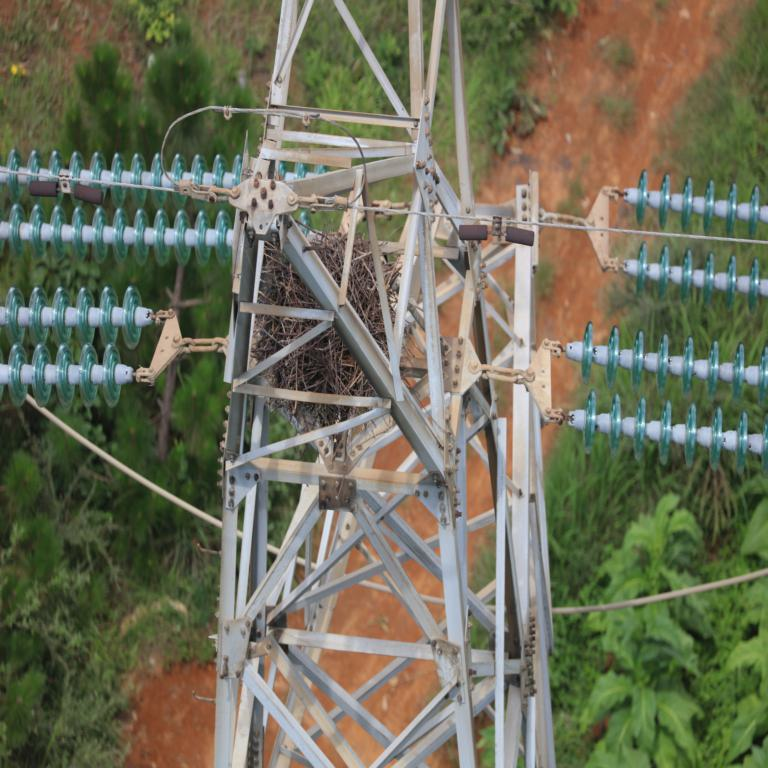nest: (253, 234, 397, 454)
